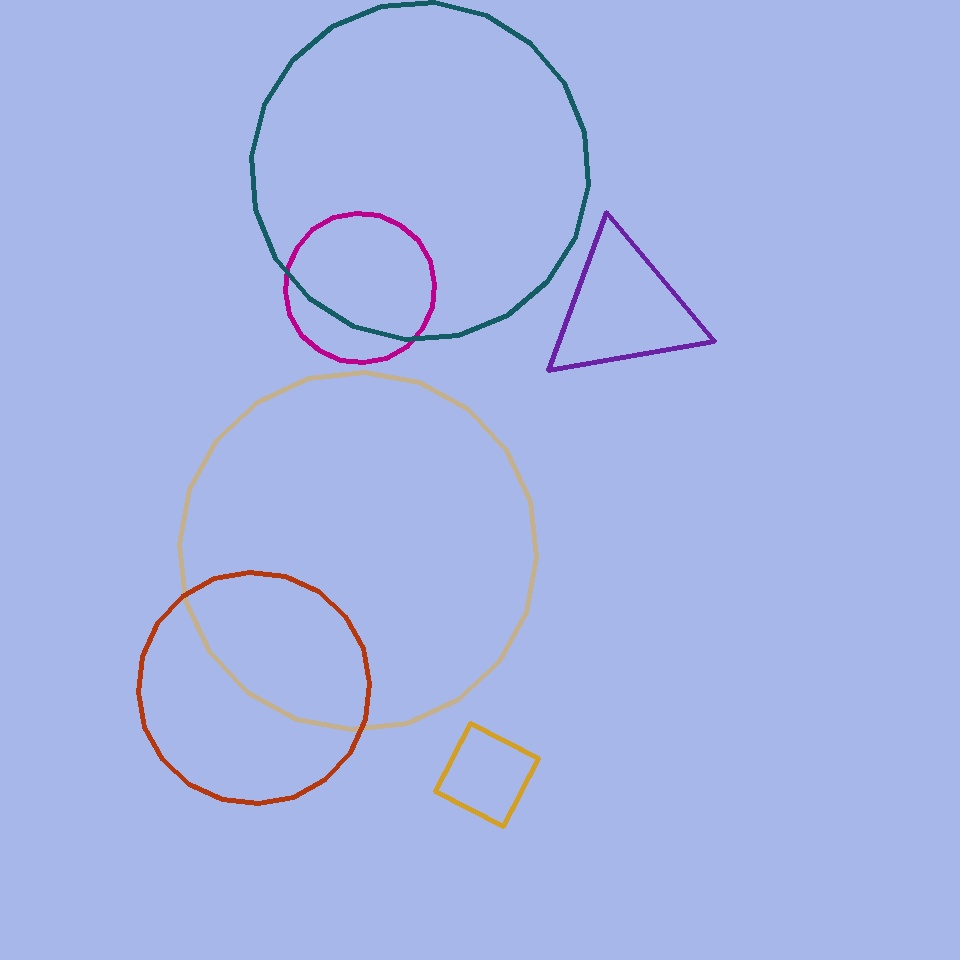circle: (540, 229, 706, 387)
square: (436, 724, 538, 826)
triangle: (180, 373, 536, 730), (252, 3, 588, 340), (138, 572, 370, 804), (286, 214, 434, 362)
